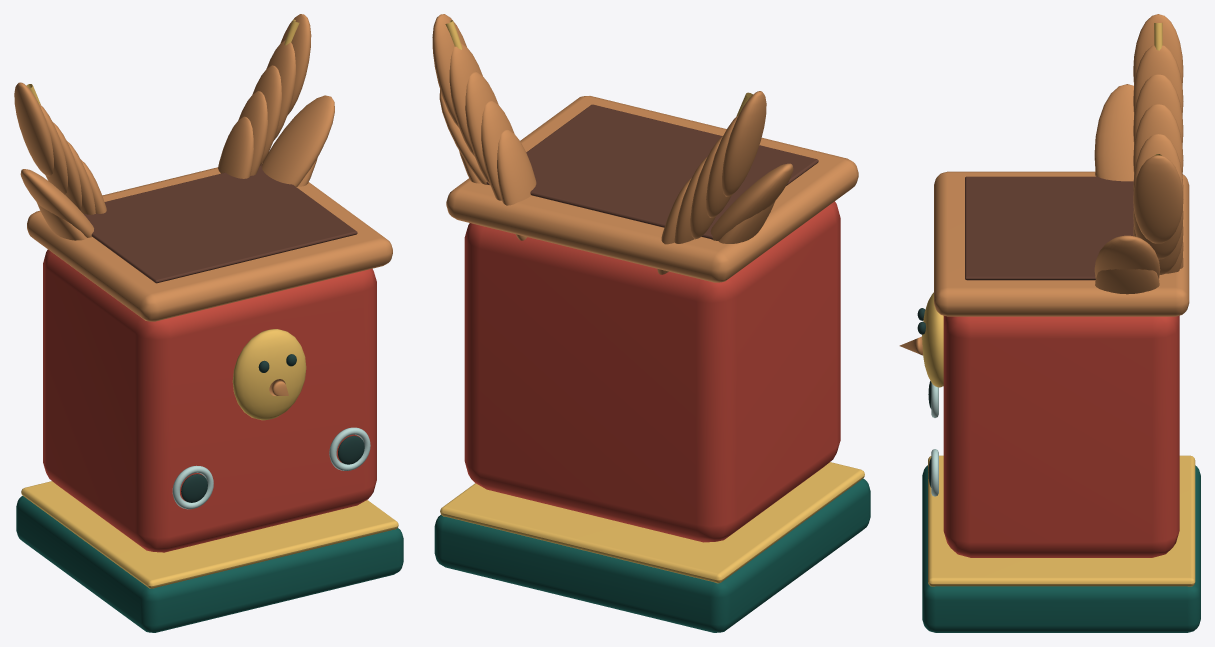
3 renders of one model, left to right at view 1: azimuth 30°, elevation 25°; view 2: azimuth 150°, elevation 25°; view 3: azimuth 270°, elevation 25°, orthographic. The views are drawn at different scales.
Parts seen in each view (by area): view 1: Foundry body, Oil well lip, Oil well, Jade footing, Brass welt, Temperature dial, Phoenix eye; view 2: Foundry body, Oil well lip, Jade footing, Oil well, Brass welt; view 3: Foundry body, Oil well lip, Oil well, Jade footing, Brass welt, Temperature dial.
Part boxes in pixels (left/top/right/bottom): Foundry body: left=43, top=249, right=376, bottom=552; Oil well lip: left=14, top=14, right=392, bottom=395; Oil well: left=83, top=164, right=357, bottom=283; Jade footing: left=16, top=496, right=403, bottom=632; Brass welt: left=21, top=19, right=398, bottom=588; Temperature dial: left=172, top=427, right=370, bottom=509; Phoenix eye: left=181, top=354, right=364, bottom=502; Foundry body: left=464, top=201, right=840, bottom=542; Oil well lip: left=432, top=14, right=858, bottom=282; Jade footing: left=434, top=478, right=870, bottom=632; Oil well: left=486, top=104, right=818, bottom=239; Brass welt: left=440, top=20, right=864, bottom=583; Foundry body: left=943, top=315, right=1179, bottom=557; Oil well lip: left=899, top=14, right=1189, bottom=355; Oil well: left=965, top=176, right=1133, bottom=280; Jade footing: left=922, top=465, right=1200, bottom=632; Brass welt: left=922, top=22, right=1195, bottom=586; Temperature dial: left=931, top=382, right=938, bottom=496.
Bounding box in the file's own units: 0.9449 × 1.39 × 0.78.
